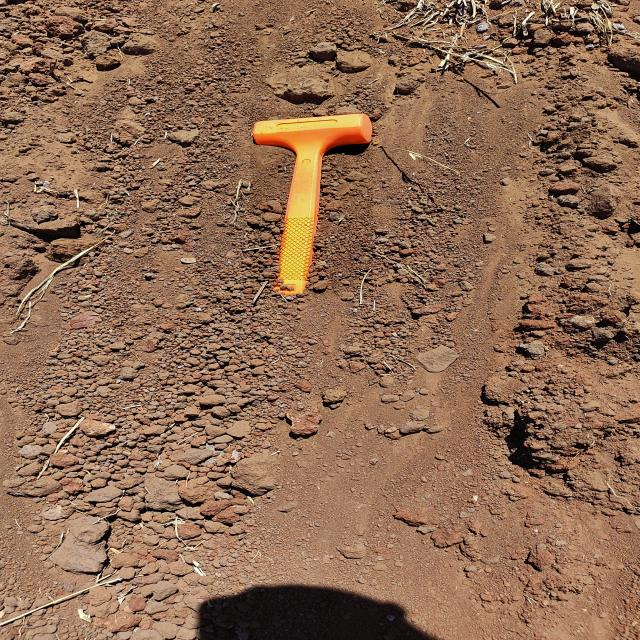Orange_hammer: (250, 112, 373, 297)
